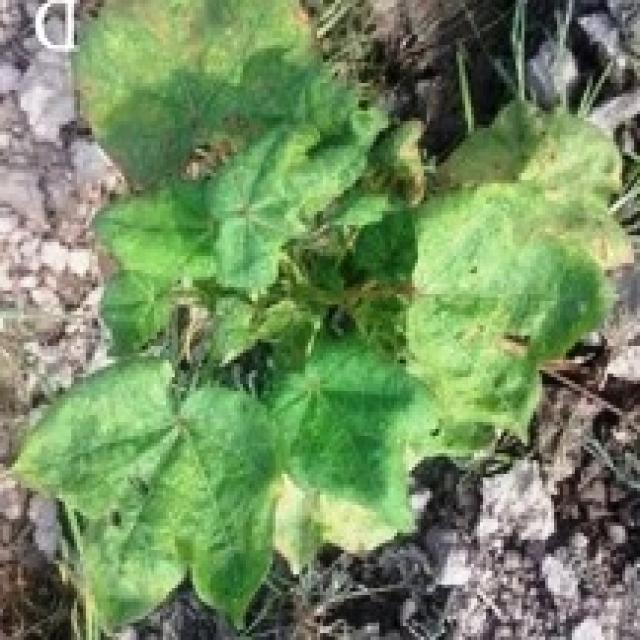Leaf Curl Virus: (129, 122, 452, 466)
